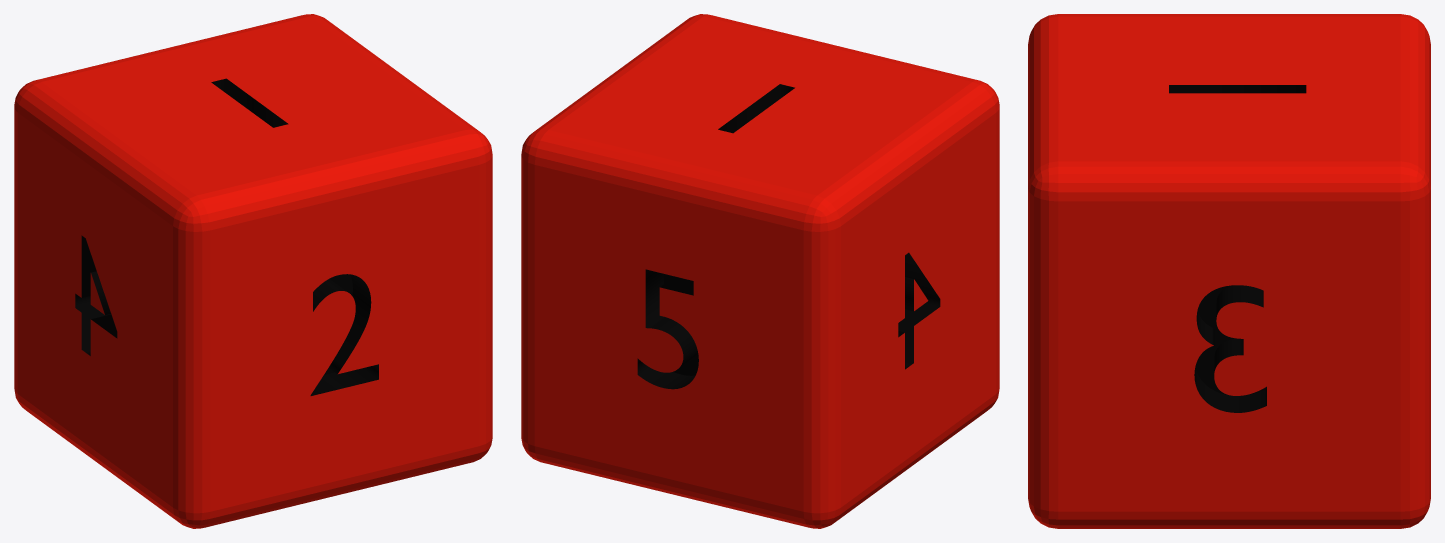
The model's file is Dado.glb.
3 renders of one model, left to right at view 1: azimuth 30°, elevation 25°; view 2: azimuth 150°, elevation 25°; view 3: azimuth 270°, elevation 25°, orthographic. The views are drawn at different scales.
Visible parts, largest first — view 1: Dado_Perfeito; view 2: Dado_Perfeito; view 3: Dado_Perfeito.
Part boxes in pixels (x1,y1,x2,y2): Dado_Perfeito: (14, 14, 492, 528); Dado_Perfeito: (521, 14, 999, 528); Dado_Perfeito: (1028, 14, 1430, 528).
Size of the model in its own units: 2.19 by 2.19 by 2.19.
